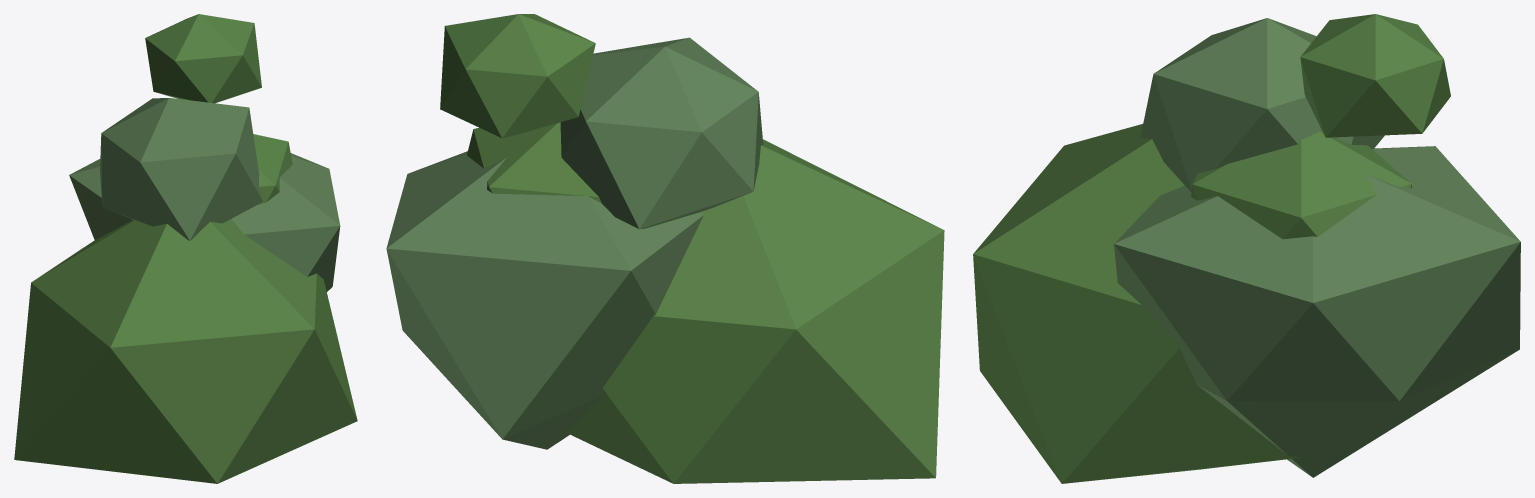
The picture shows the model from 3 angles, left to right: view 1: azimuth 30°, elevation 25°; view 2: azimuth 150°, elevation 25°; view 3: azimuth 270°, elevation 25°; orthographic projection. The views are drawn at different scales.
Visible parts, largest first — view 1: en_2; view 2: en_2; view 3: en_2.
Boxes of the visible parts, left/top/right/bottom form: en_2: left=14, top=14, right=357, bottom=483; en_2: left=386, top=14, right=944, bottom=483; en_2: left=973, top=14, right=1520, bottom=483.
Bounding box in the file's own units: 1.73 × 1.76 × 1.71.
